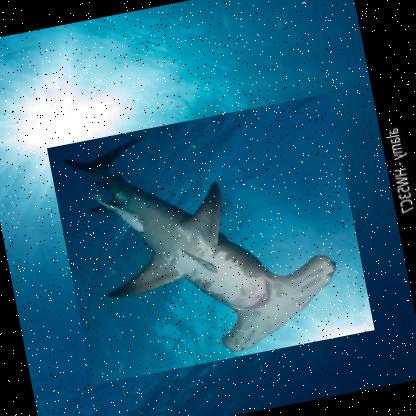hammerhead_Shark: (46, 92, 374, 386)
